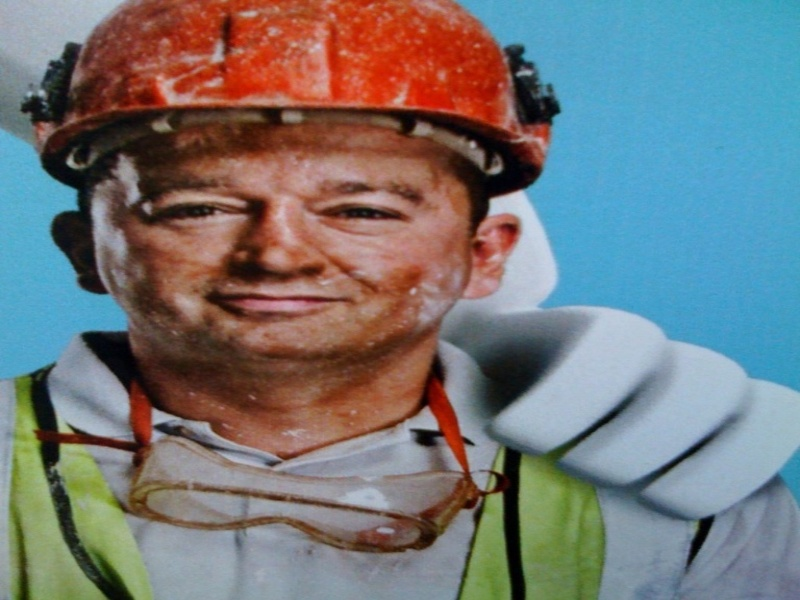baret: (34, 1, 555, 206)
